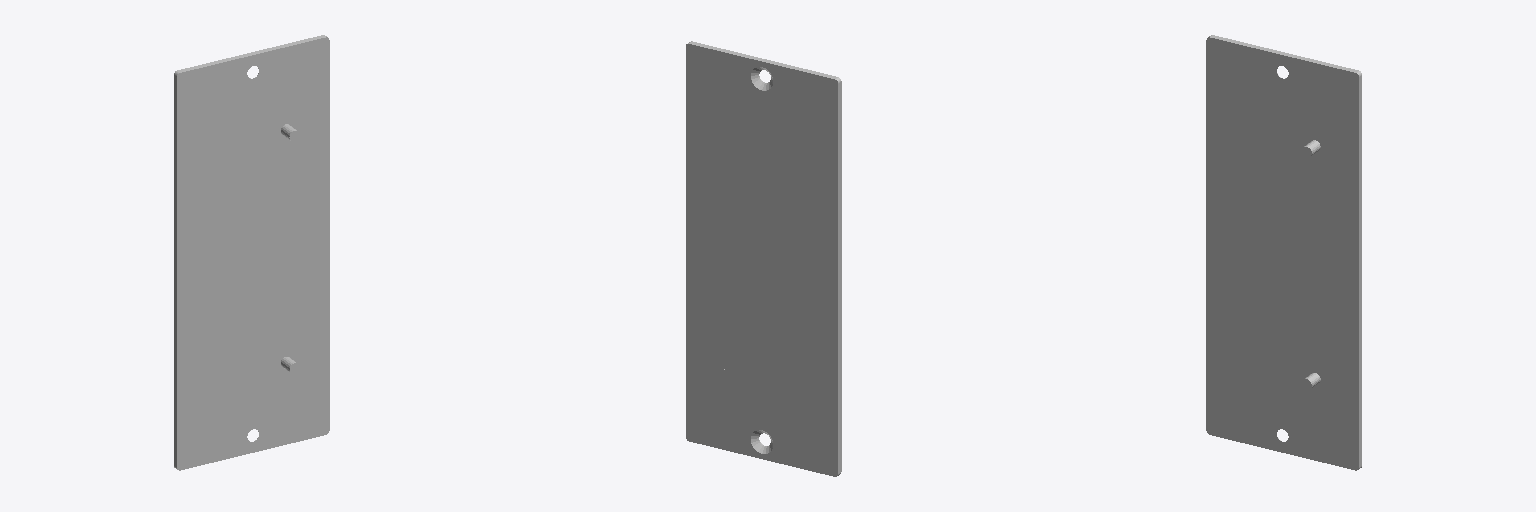
File: module.obj
3 views of the same model, side by side, from view 1: azimuth 30°, elevation 25°; view 2: azimuth 150°, elevation 25°; view 3: azimuth 330°, elevation 25° (orthographic).
Visible parts, largest first — view 1: v3d.csg; view 2: v3d.csg; view 3: v3d.csg.
Boxes of the visible parts, box(x1,y1,x2,y2) form: v3d.csg: box(174, 35, 329, 470); v3d.csg: box(686, 41, 841, 476); v3d.csg: box(1206, 35, 1361, 470).
Bounding box in the file's own units: 1.73 × 4.31 × 0.2362.